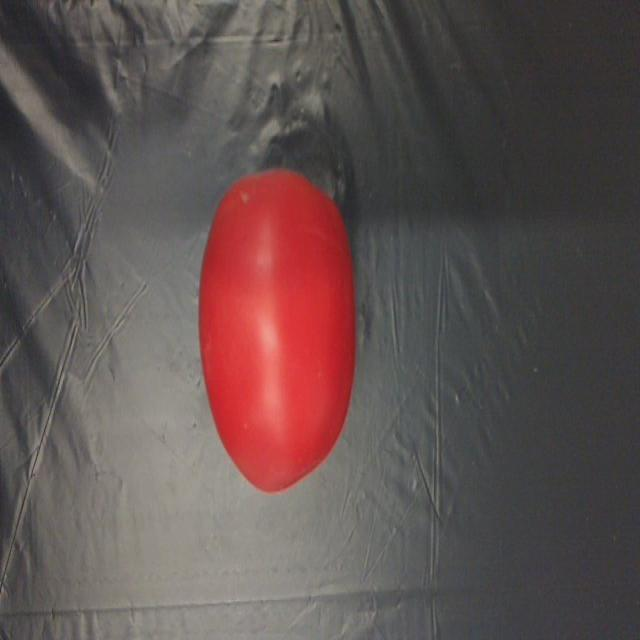kirmizi: (194, 160, 369, 499)
